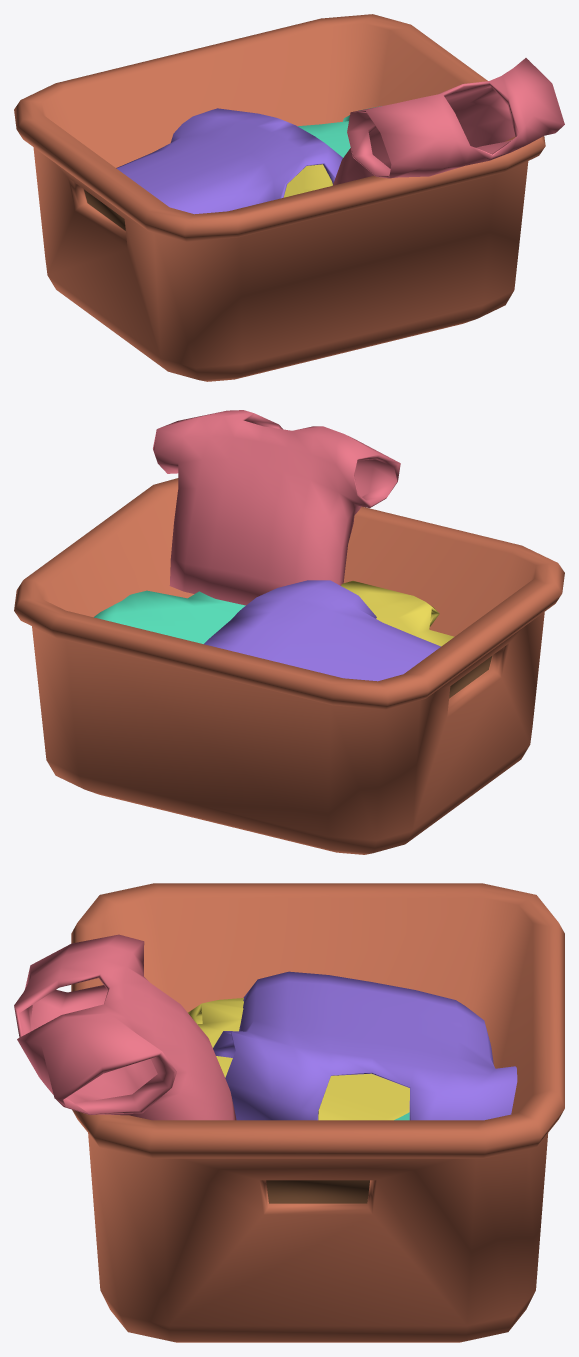
Rendered from props_panier_a_linge.fbx.
The picture shows the model from 3 angles, top to bottom: view 1: azimuth 30°, elevation 25°; view 2: azimuth 150°, elevation 25°; view 3: azimuth 270°, elevation 25°; orthographic projection. The views are drawn at different scales.
Parts seen in each view (by area): view 1: Cube.002; view 2: Cube.002; view 3: Cube.002.
Boxes of the visible parts, x1,y1,x2,y2 form: Cube.002: (14, 14, 564, 381); Cube.002: (14, 410, 564, 854); Cube.002: (14, 883, 564, 1342).
Size of the model in its own units: 1.92 by 1.76 by 1.17.
